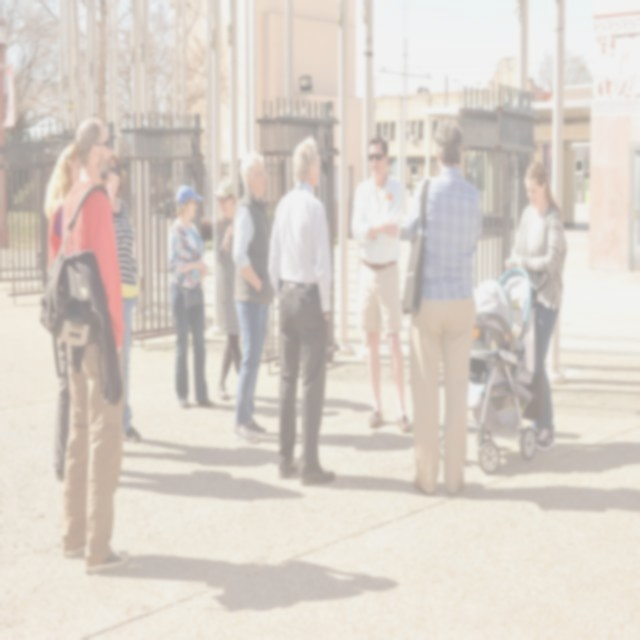pessoa: (40, 120, 130, 574), (398, 116, 488, 501), (266, 132, 340, 490), (123, 534, 404, 622), (502, 160, 570, 453), (350, 134, 416, 435), (232, 149, 276, 446), (44, 142, 82, 484), (118, 434, 311, 499), (166, 181, 215, 414), (103, 152, 142, 444), (212, 178, 244, 400), (474, 298, 528, 377)
